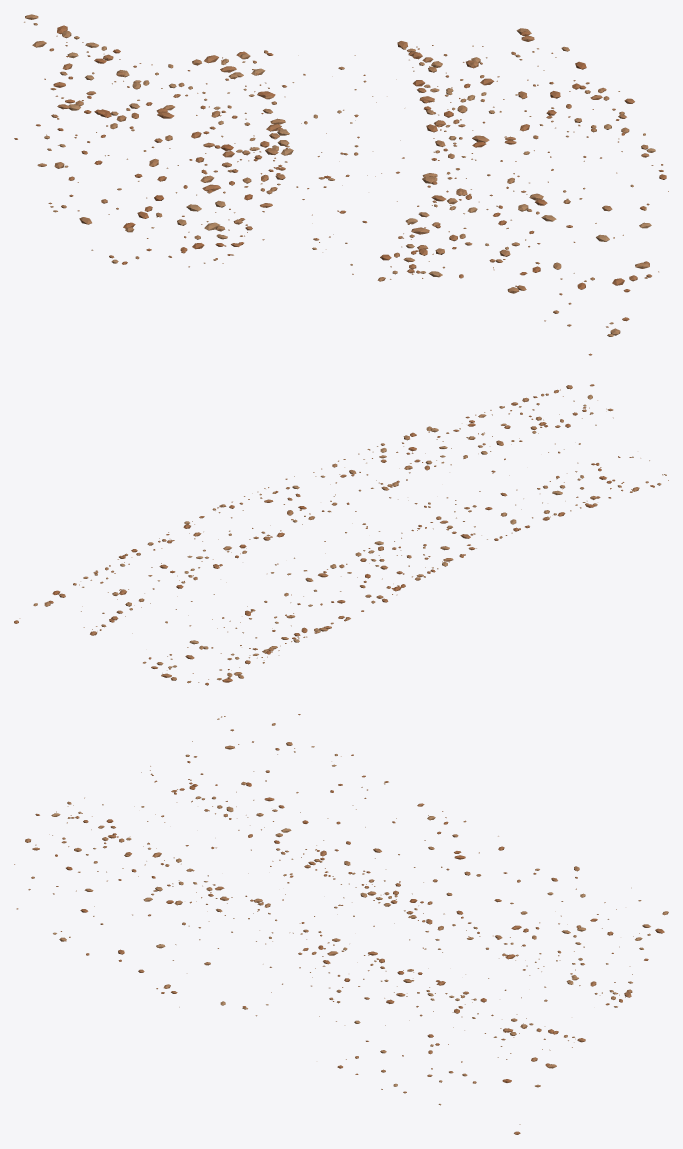
The model's file is terrain-106.glb.
3 renders of one model, top to bottom at view 1: azimuth 30°, elevation 25°; view 2: azimuth 150°, elevation 25°; view 3: azimuth 270°, elevation 25°, orthographic. The views are drawn at different scales.
Visible parts, largest first — view 1: terrain-106; view 2: terrain-106; view 3: terrain-106.
Boxes of the visible parts, bbox=[...] form: terrain-106: bbox=[14, 14, 668, 355]; terrain-106: bbox=[14, 384, 668, 685]; terrain-106: bbox=[14, 714, 668, 1134].
Bounding box in the file's own units: 63.07 × 20.88 × 69.46.
